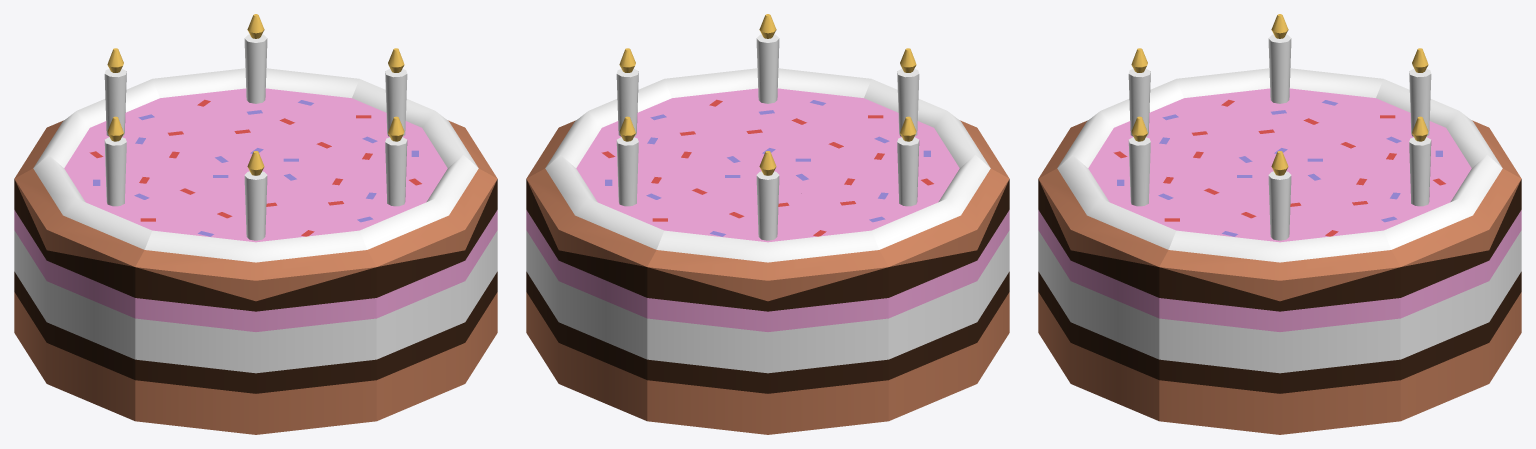
The model's file is Cake Birthday.glb.
The picture shows the model from 3 angles, left to right: view 1: azimuth 30°, elevation 25°; view 2: azimuth 150°, elevation 25°; view 3: azimuth 270°, elevation 25°; orthographic projection.
Parts seen in each view (by area): view 1: Cake Birthday; view 2: Cake Birthday; view 3: Cake Birthday.
Boxes of the visible parts, left/top/right/bottom form: Cake Birthday: left=14, top=14, right=497, bottom=434; Cake Birthday: left=526, top=14, right=1009, bottom=434; Cake Birthday: left=1038, top=14, right=1521, bottom=434.
Size of the model in its own units: 0.6392 by 0.3638 by 0.6392.
